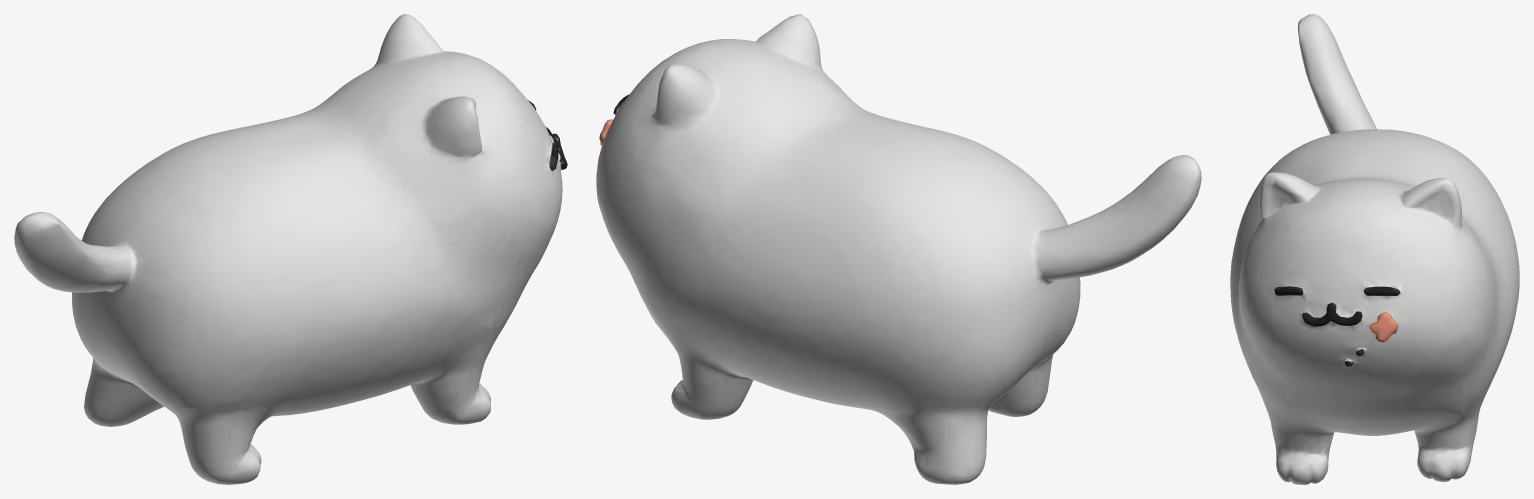
File: TUBBSCAT.glb
3 renders of one model, left to right at view 1: azimuth 30°, elevation 25°; view 2: azimuth 150°, elevation 25°; view 3: azimuth 270°, elevation 25°, orthographic. The views are drawn at different scales.
Parts seen in each view (by area): view 1: tripo_node_e4f5e0a9-0815-415c-b85d-d4e8bdd02b18; view 2: tripo_node_e4f5e0a9-0815-415c-b85d-d4e8bdd02b18; view 3: tripo_node_e4f5e0a9-0815-415c-b85d-d4e8bdd02b18.
Part boxes in pixels (x1=…): tripo_node_e4f5e0a9-0815-415c-b85d-d4e8bdd02b18: x1=14, y1=14, x2=567, y2=484; tripo_node_e4f5e0a9-0815-415c-b85d-d4e8bdd02b18: x1=596, y1=14, x2=1201, y2=484; tripo_node_e4f5e0a9-0815-415c-b85d-d4e8bdd02b18: x1=1230, y1=14, x2=1519, y2=484.
Bounding box in the file's own units: 1.74 × 1 × 0.8492.
1 material, 1 textured.
